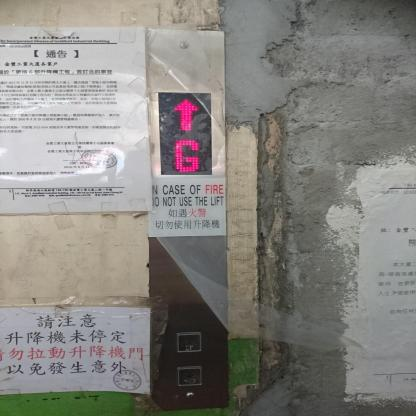down: (176, 366, 204, 387)
led: (156, 91, 214, 176)
up: (176, 332, 202, 353)
